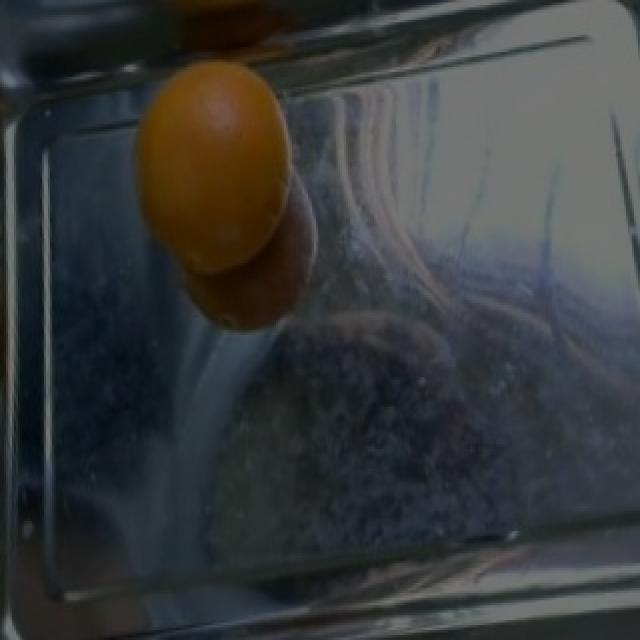Fruit: (126, 47, 308, 288)
